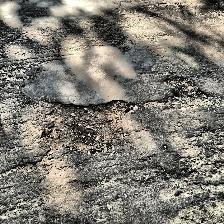pothole: (39, 97, 129, 157), (162, 75, 210, 112)
